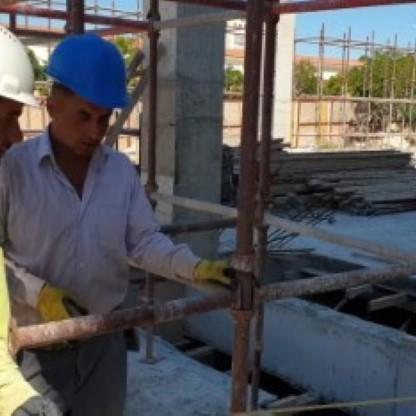helmet: (46, 33, 134, 172)
